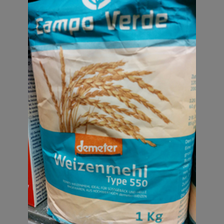flour: (28, 2, 195, 223)
